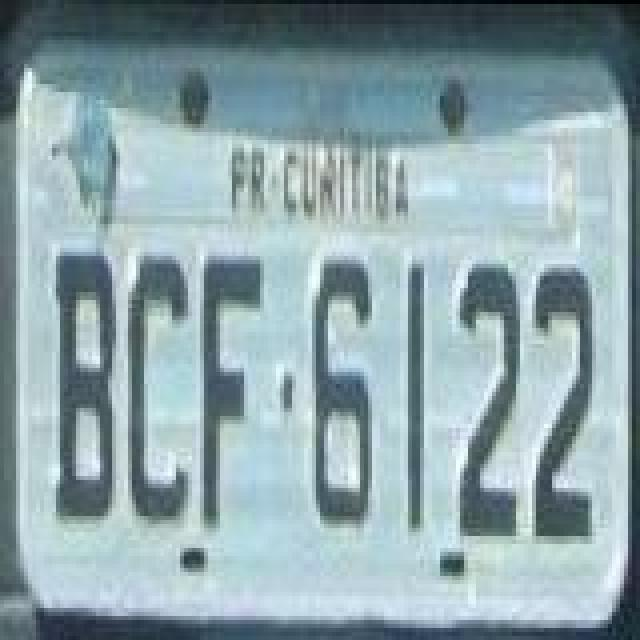1: (404, 254, 428, 534)
2: (456, 256, 520, 540), (532, 266, 596, 542)
6: (312, 258, 376, 530)
B: (56, 246, 120, 522)
C: (128, 246, 192, 522)
F: (200, 248, 264, 532)
